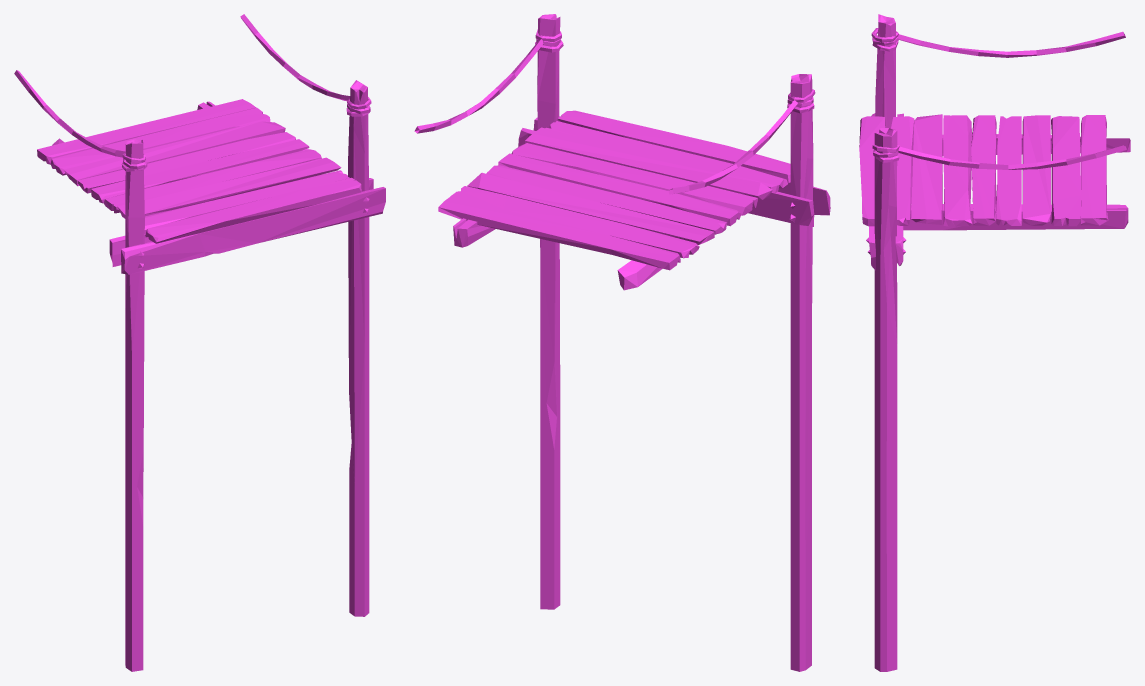
The model's file is SM_Pier_Rope_Short_Fantasy.fbx.
3 renders of one model, left to right at view 1: azimuth 30°, elevation 25°; view 2: azimuth 150°, elevation 25°; view 3: azimuth 270°, elevation 25°, orthographic. The views are drawn at different scales.
Parts seen in each view (by area): view 1: SM_Pier_Rope_Short_Fantasy; view 2: SM_Pier_Rope_Short_Fantasy; view 3: SM_Pier_Rope_Short_Fantasy.
Boxes of the visible parts, left/top/right/bottom form: SM_Pier_Rope_Short_Fantasy: left=14, top=14, right=385, bottom=671; SM_Pier_Rope_Short_Fantasy: left=414, top=14, right=830, bottom=671; SM_Pier_Rope_Short_Fantasy: left=859, top=14, right=1130, bottom=671.
Size of the model in its own units: 3.8 by 7.23 by 3.3.
